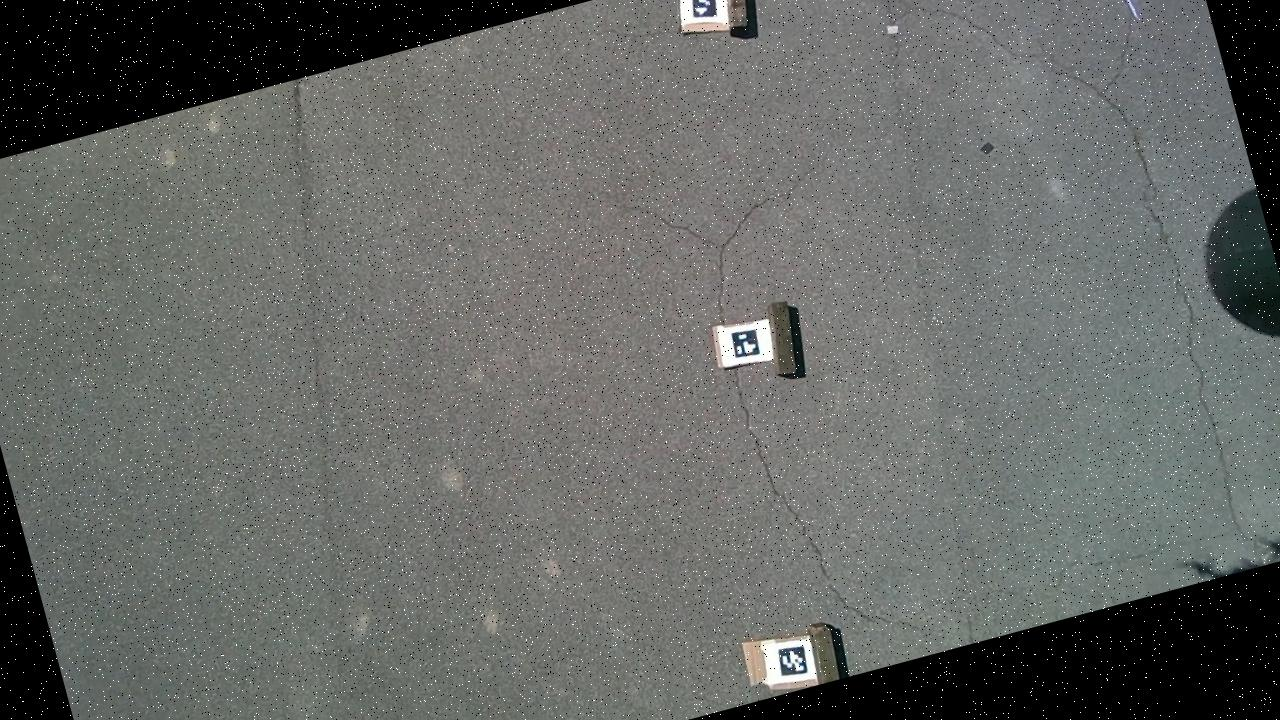probes: (1120, 0, 1139, 22)
